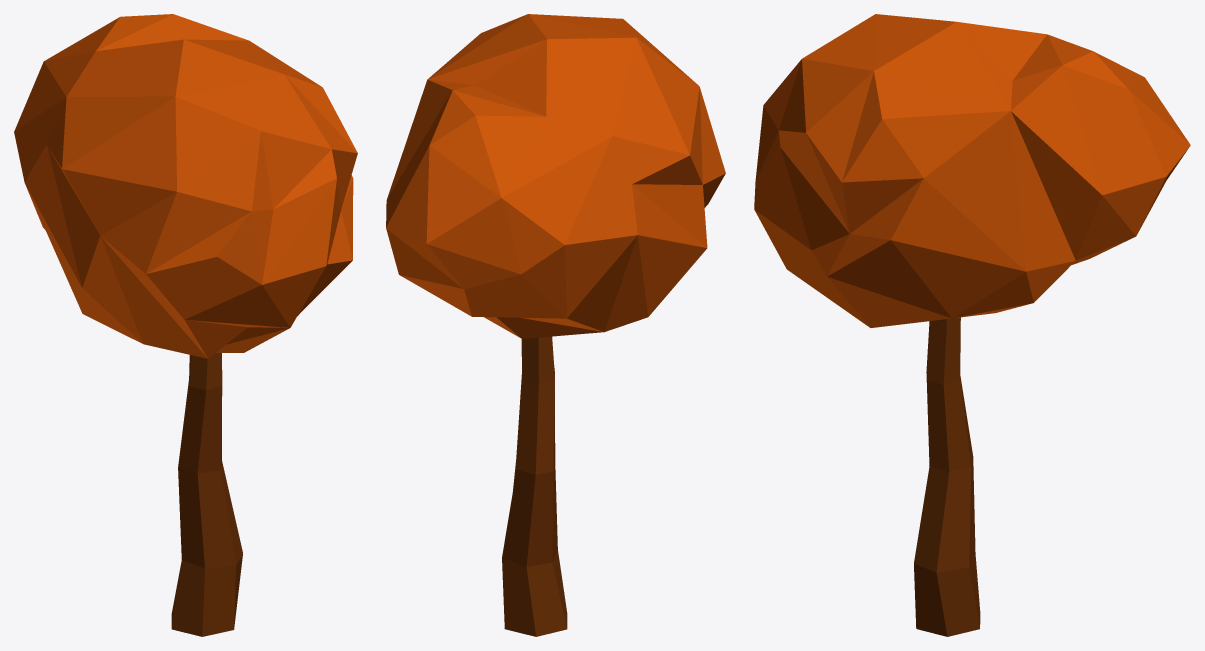
Rendered from Tree_1_Orange.fbx.
3 views of the same model, side by side, from view 1: azimuth 30°, elevation 25°; view 2: azimuth 150°, elevation 25°; view 3: azimuth 270°, elevation 25° (orthographic).
Parts seen in each view (by area): view 1: pCube2, pCylinder3; view 2: pCube2, pCylinder3; view 3: pCube2, pCylinder3.
Boxes of the visible parts, x1,y1,x2,y2 form: pCube2: (14, 14, 357, 358); pCylinder3: (171, 353, 242, 636); pCube2: (386, 14, 725, 338); pCylinder3: (502, 336, 567, 636); pCube2: (754, 14, 1190, 327); pCylinder3: (914, 317, 980, 636).
Size of the model in its own units: 364 by 755 by 505.
